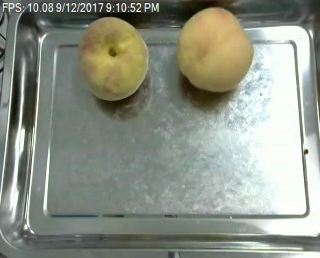Peach: (177, 6, 253, 93), (79, 16, 149, 100)
